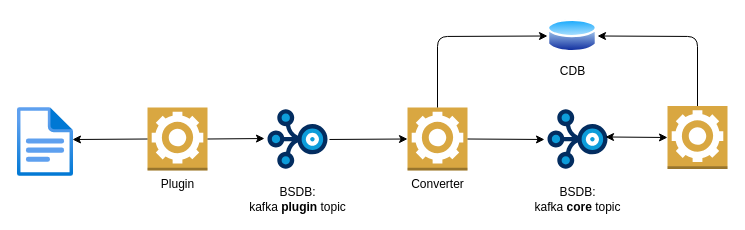
The diagram is 745 pixels wide and 230 high, and some of its shapes have lost their labels. Here are the shapes that lost their labels. From the top down, the centre of each, then its label:
At [45,141]: "File".
At [697,137]: "Supervisor".
